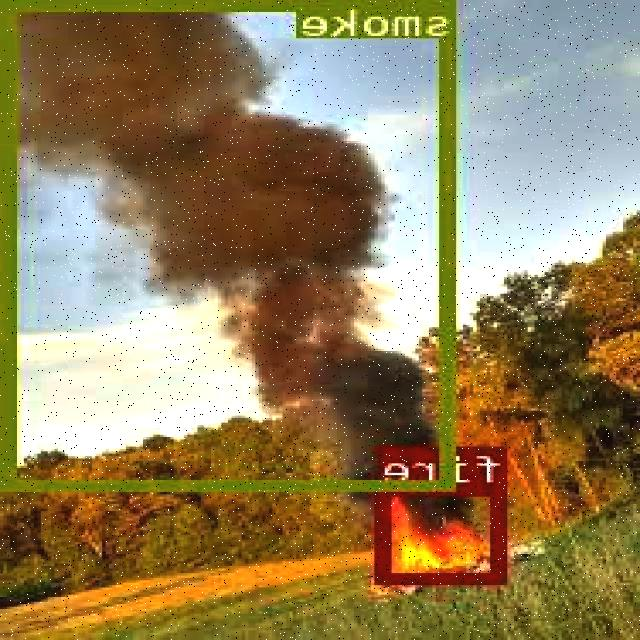fire: (380, 484, 510, 582)
smoke: (7, 0, 460, 487)
